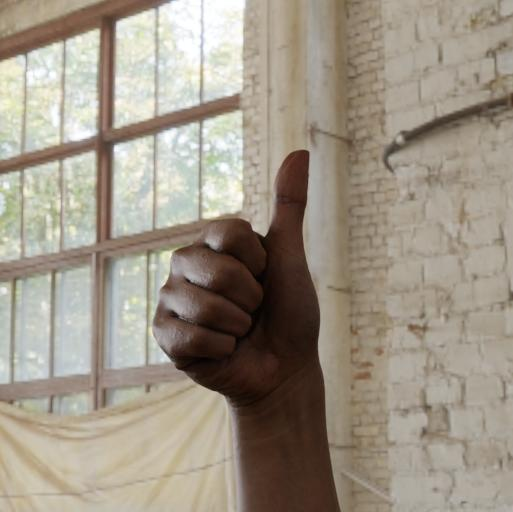thumbs-up: (158, 139, 323, 414)
